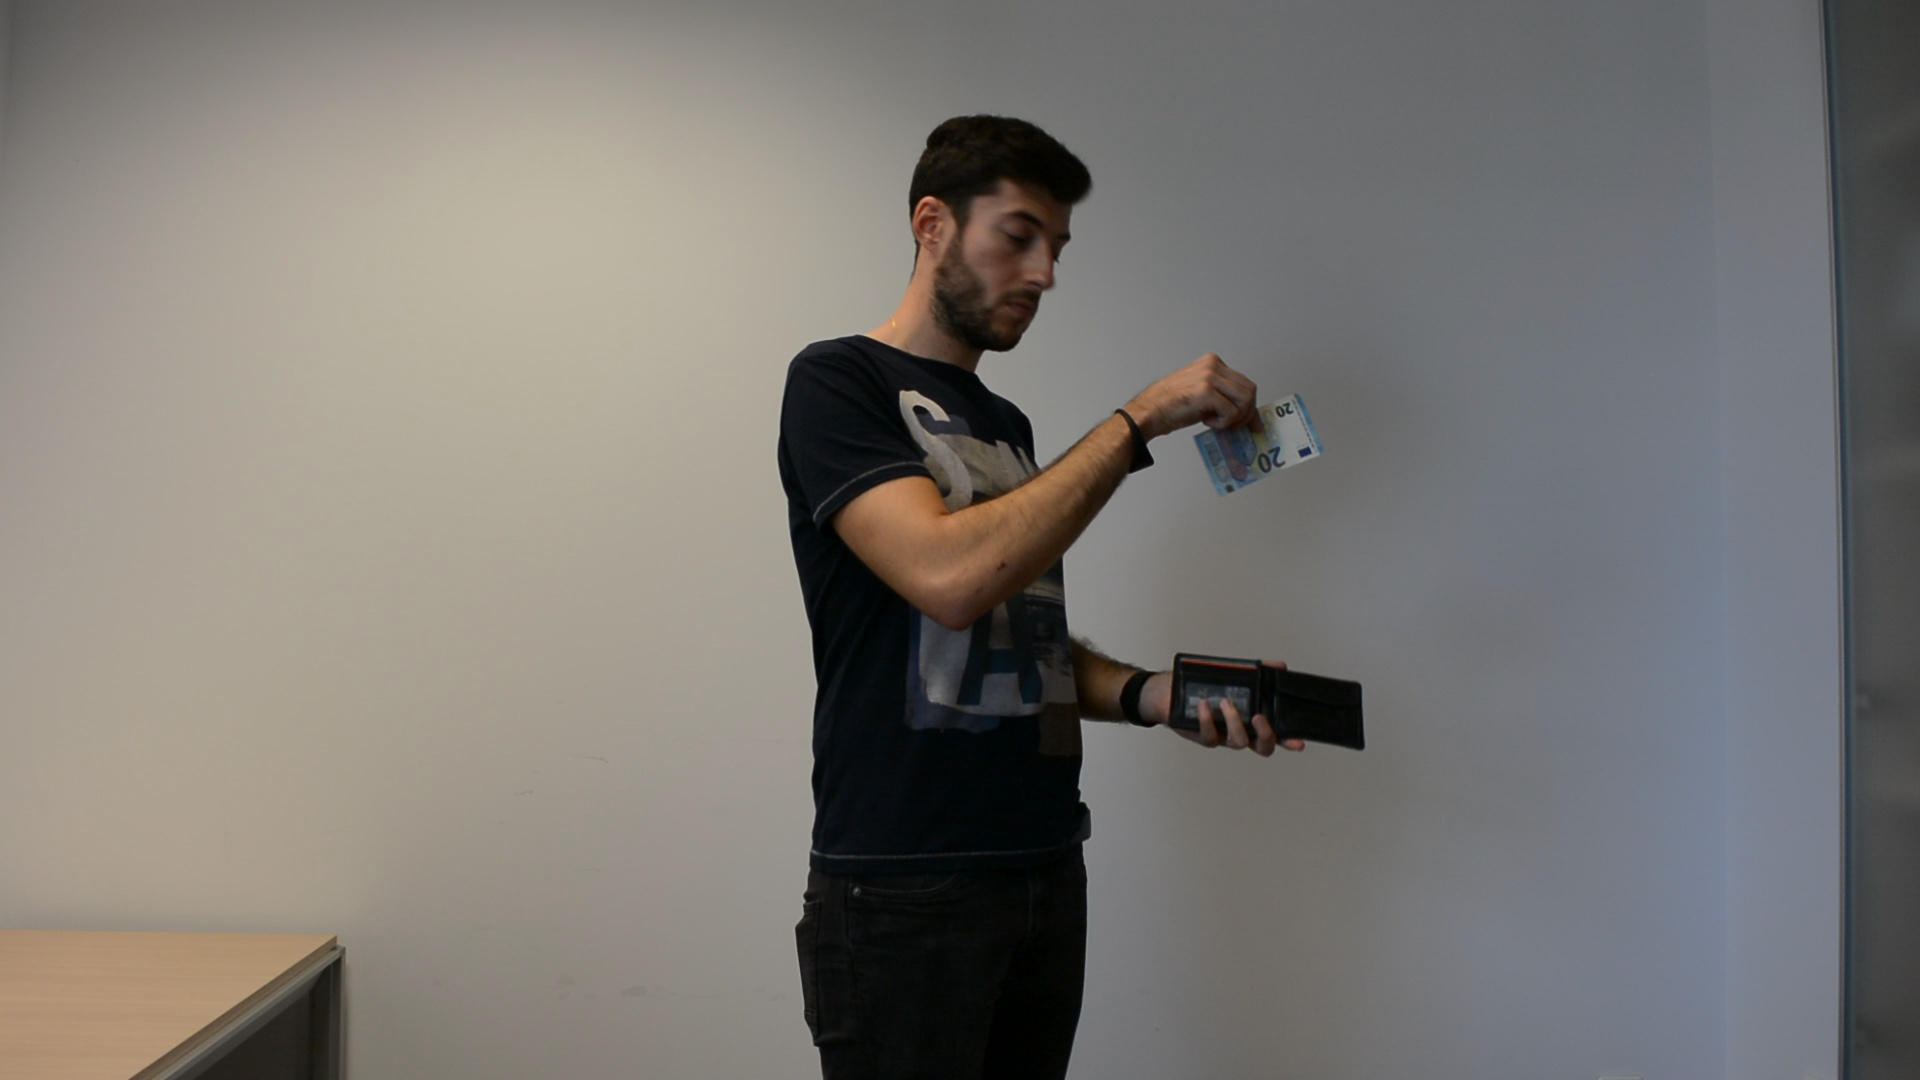billete: (1189, 389, 1331, 497)
monedero: (1164, 649, 1369, 754)
